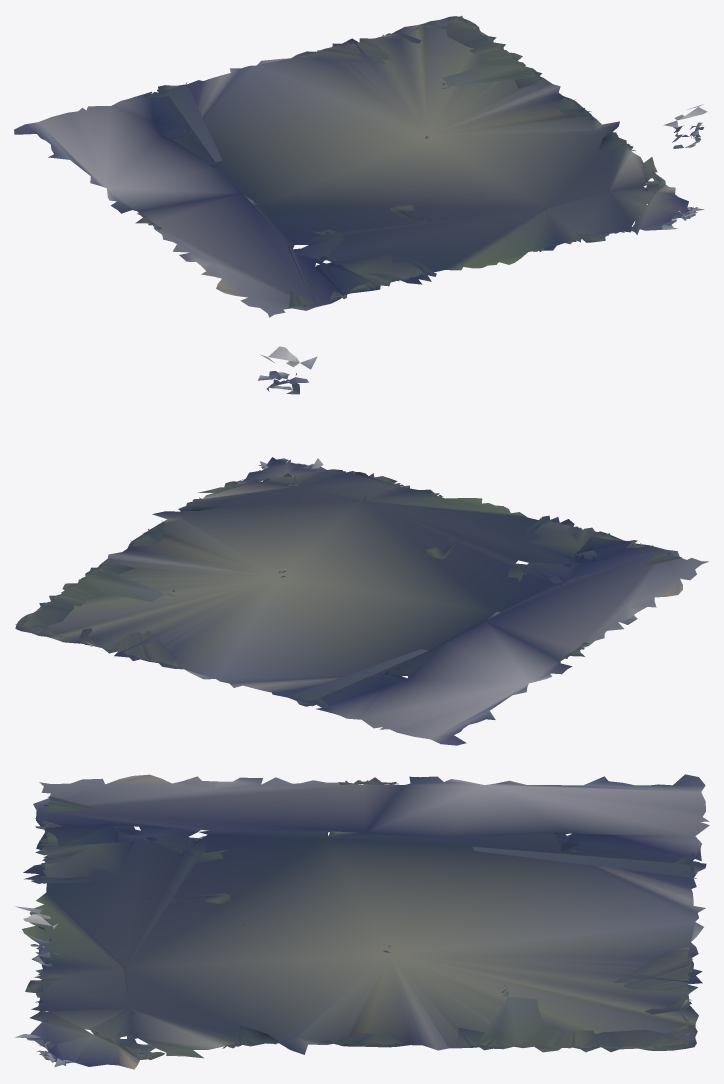
The picture shows the model from 3 angles, top to bottom: view 1: azimuth 30°, elevation 25°; view 2: azimuth 150°, elevation 25°; view 3: azimuth 270°, elevation 25°; orthographic projection. The views are drawn at different scales.
Bounding box in the file's own units: 108 × 24.33 × 108.
